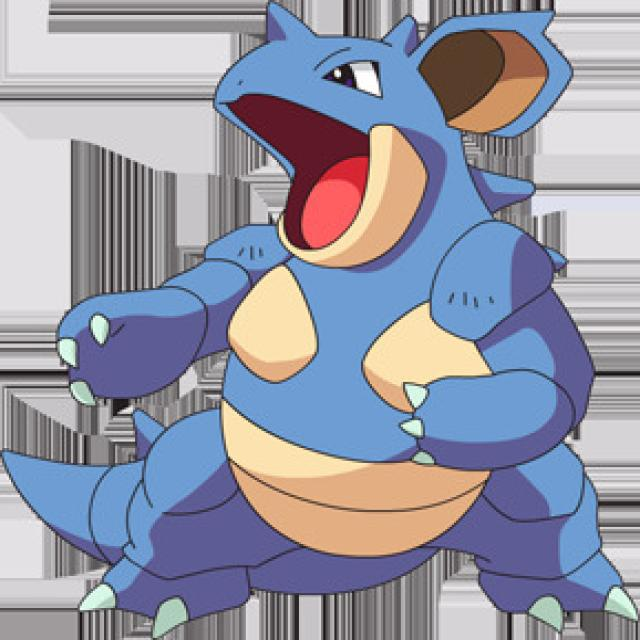Nidoqueen: (46, 0, 606, 619)
